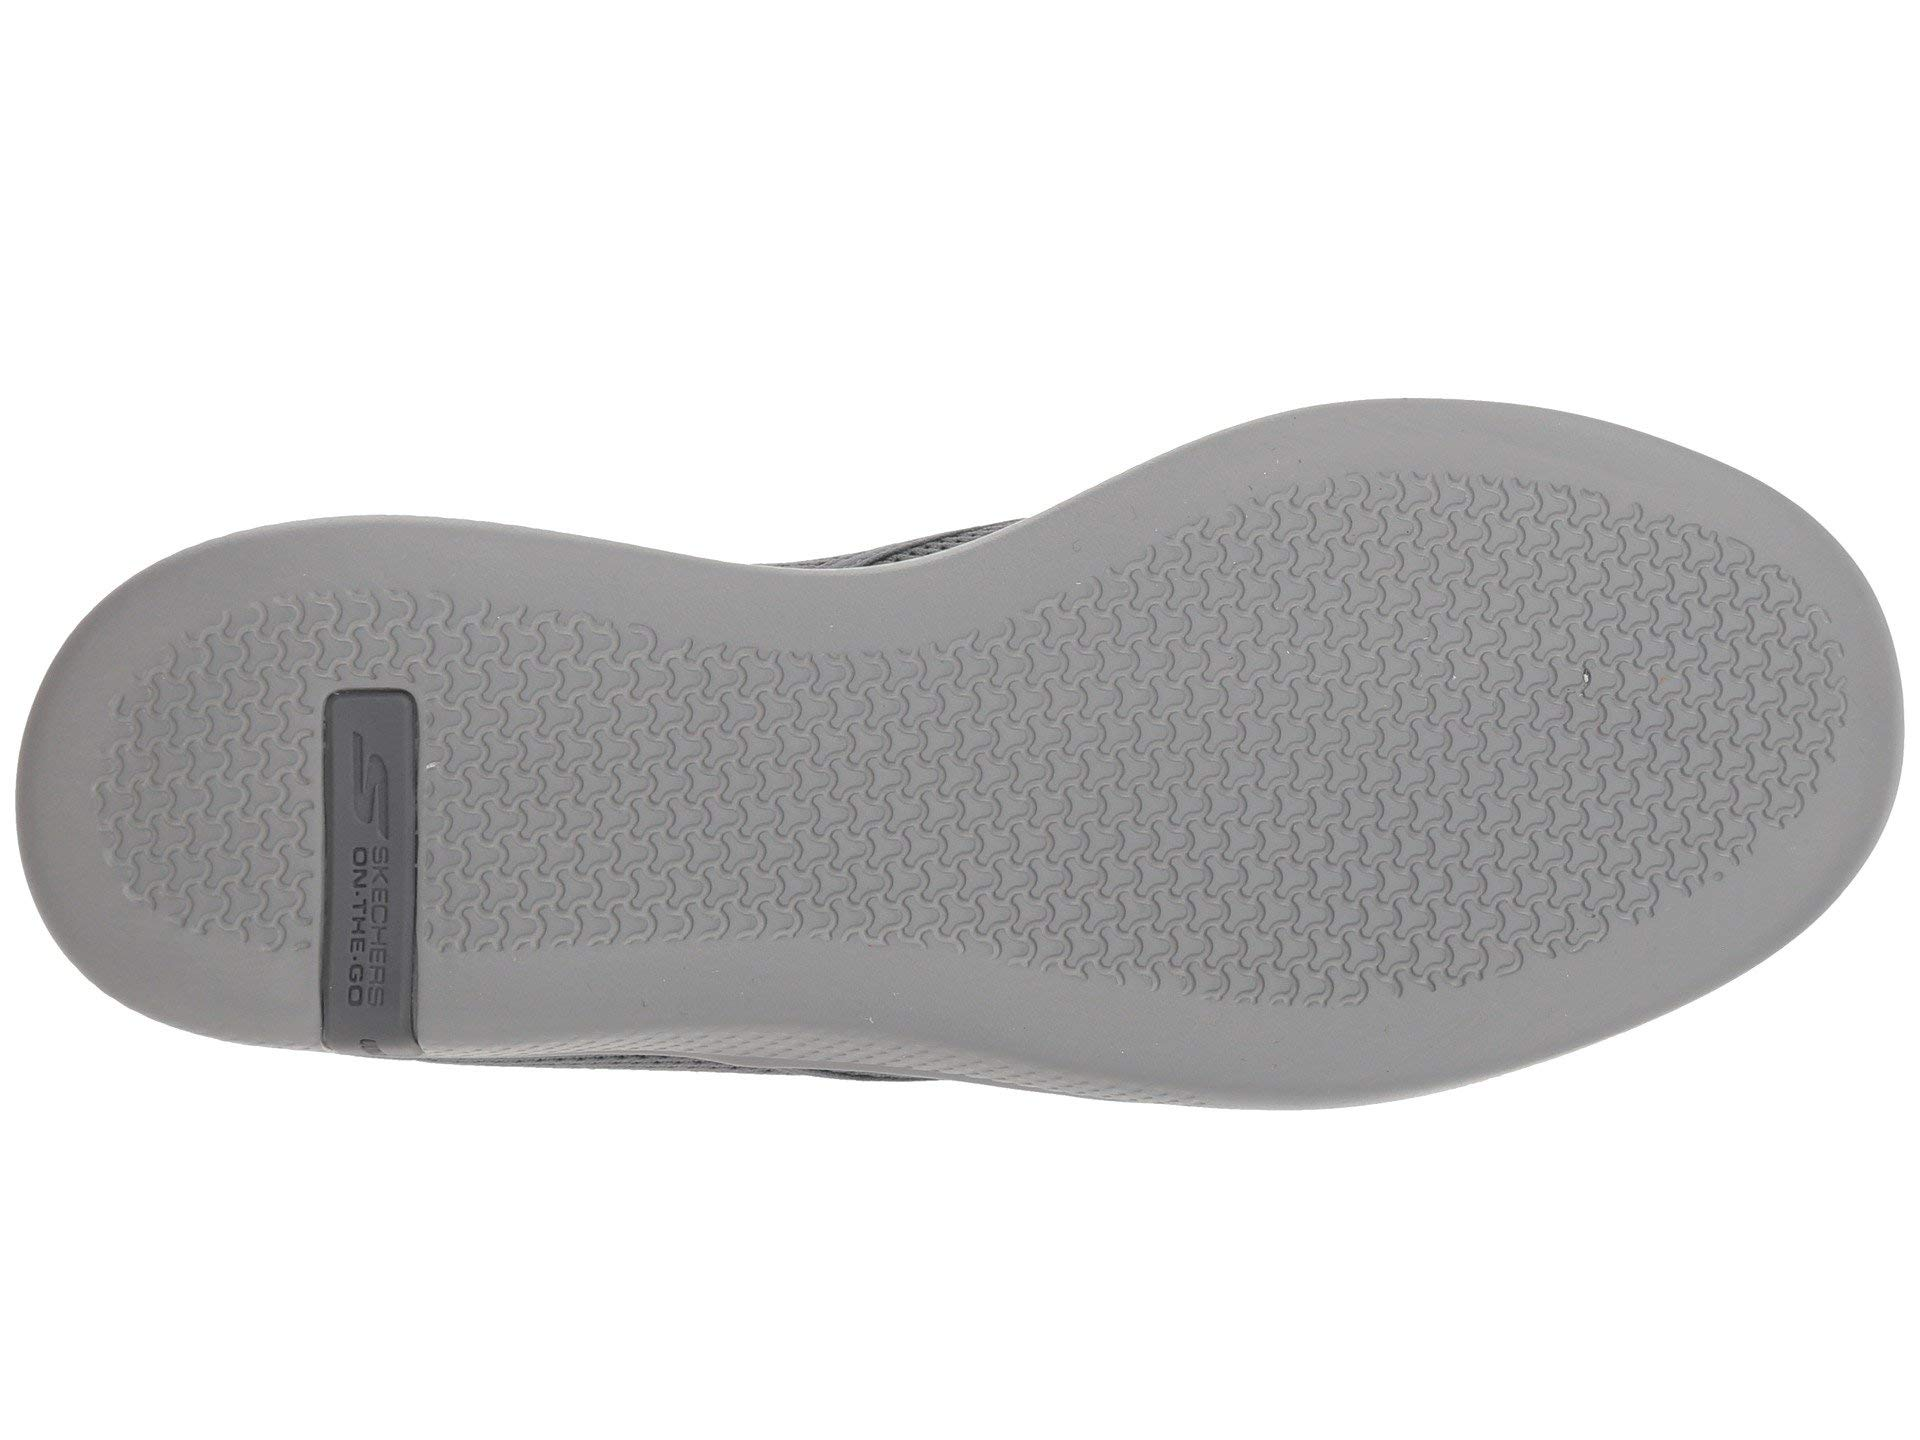circle: (213, 616, 491, 1053)
quad: (213, 616, 491, 1053)
star: (1058, 596, 1423, 979), (213, 616, 491, 1053)
text: (213, 616, 491, 1053)
